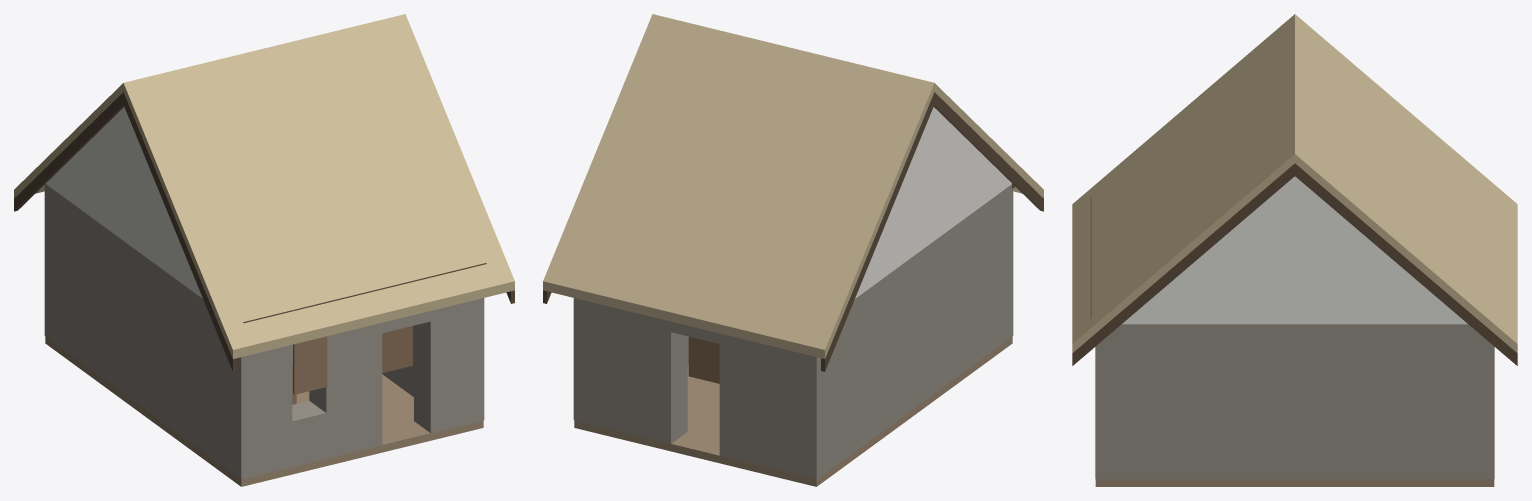
File: artisan-c.glb
3 views of the same model, side by side, from view 1: azimuth 30°, elevation 25°; view 2: azimuth 150°, elevation 25°; view 3: azimuth 270°, elevation 25° (orthographic).
Parts seen in each view (by area): view 1: roof, stone, render, floor, timber, artisan-c-shutter-01 leaf, artisan-c-door-01 leaf; view 2: roof, stone, render, floor, timber, artisan-c-door-02 leaf; view 3: roof, stone, render, timber, floor.
Part boxes in pixels (x1,y1,x2,y2): roof: (14, 14, 514, 358); stone: (44, 184, 484, 479); render: (45, 107, 202, 298); floor: (45, 336, 483, 486); timber: (14, 92, 514, 371); artisan-c-shutter-01 leaf: (293, 336, 327, 394); artisan-c-door-01 leaf: (382, 326, 412, 372); roof: (543, 14, 1043, 358); stone: (573, 184, 1013, 479); render: (855, 107, 1011, 298); floor: (574, 336, 1012, 486); timber: (543, 92, 1043, 371); artisan-c-door-02 leaf: (688, 336, 719, 383); roof: (1072, 14, 1517, 352); stone: (1095, 324, 1494, 479); render: (1122, 176, 1467, 324); timber: (1072, 163, 1517, 365); floor: (1095, 479, 1494, 486).
Bounding box in the file's own units: 5.8 × 6.63 × 7.8.
